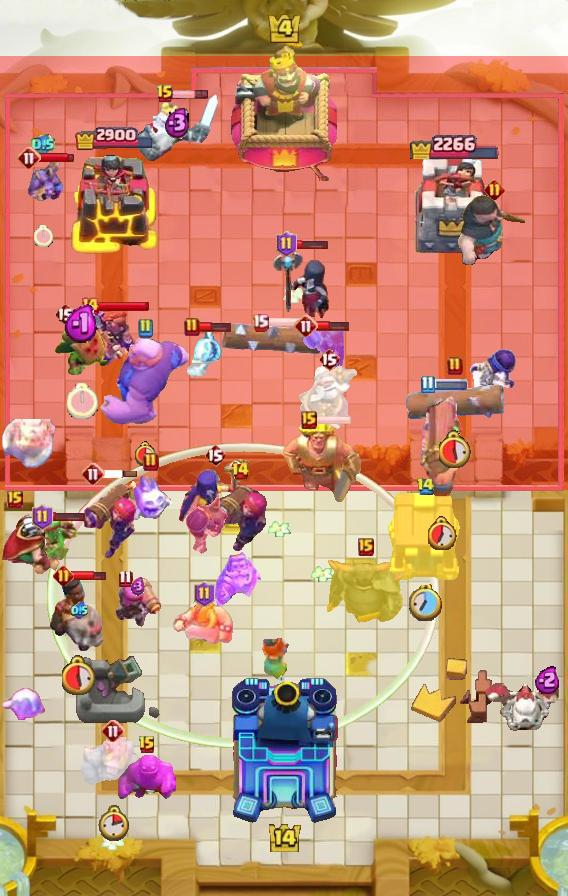axe: (0, 419, 56, 469)
bar: (98, 300, 150, 312), (71, 569, 107, 582), (315, 414, 352, 426), (266, 316, 303, 328), (432, 379, 468, 391), (39, 152, 75, 164), (294, 238, 329, 250), (172, 89, 209, 100), (198, 321, 231, 333), (316, 320, 349, 332), (51, 511, 86, 522), (102, 469, 138, 479)
bar-level: (101, 719, 125, 743), (81, 462, 105, 486), (294, 314, 318, 338), (17, 146, 41, 170), (194, 581, 215, 607), (32, 504, 53, 530), (276, 231, 297, 257), (204, 443, 226, 467), (318, 347, 340, 371), (54, 302, 76, 326), (53, 565, 74, 586), (484, 179, 505, 200), (80, 296, 100, 316), (231, 461, 250, 481), (416, 477, 435, 496), (138, 735, 156, 755), (156, 84, 174, 104), (252, 313, 269, 332), (143, 452, 159, 472), (447, 356, 463, 376), (137, 318, 153, 338), (184, 317, 200, 337), (358, 538, 374, 556), (7, 490, 23, 508), (301, 411, 317, 429), (118, 569, 133, 588), (420, 375, 435, 394)
bomber-evolution: (186, 489, 230, 555), (467, 347, 519, 401)
clock: (62, 655, 97, 695), (439, 430, 472, 468), (409, 584, 442, 621), (98, 805, 129, 841), (67, 383, 98, 419), (428, 516, 457, 550), (133, 441, 157, 466), (34, 225, 53, 247)
dart-goblin: (53, 310, 111, 380)
elite-barbarian: (173, 598, 235, 646)
elixir: (64, 304, 100, 344), (164, 106, 191, 139), (535, 665, 561, 694), (31, 134, 55, 155), (71, 602, 88, 619), (131, 577, 145, 596)
elixir-golem-mid: (118, 754, 176, 800)
firecracker: (114, 576, 163, 628)
firecracker-evolution: (80, 476, 140, 562), (211, 476, 269, 554)
golemite: (80, 737, 146, 797)
ice-spirit: (182, 327, 224, 379)
ice-spirit-evolution: (130, 473, 172, 523), (0, 688, 50, 726)
king-tower: (228, 676, 340, 826), (231, 45, 337, 181)
knight-evolution: (215, 550, 261, 608)
minion: (23, 155, 63, 203)
night-witch: (271, 249, 331, 323)
queen-tower: (69, 154, 159, 256), (413, 157, 493, 256)
ram-rider: (49, 576, 109, 652)
royal-ghost: (133, 93, 221, 173)
spear-goblin: (38, 514, 80, 560)
the-log: (404, 379, 506, 423), (218, 322, 325, 358)
tower-bar: (407, 128, 499, 159), (74, 125, 155, 150)
valkyrie: (301, 324, 347, 370), (257, 633, 295, 685)
valkyrie-evolution: (75, 305, 137, 369)
witch: (177, 457, 253, 531)
